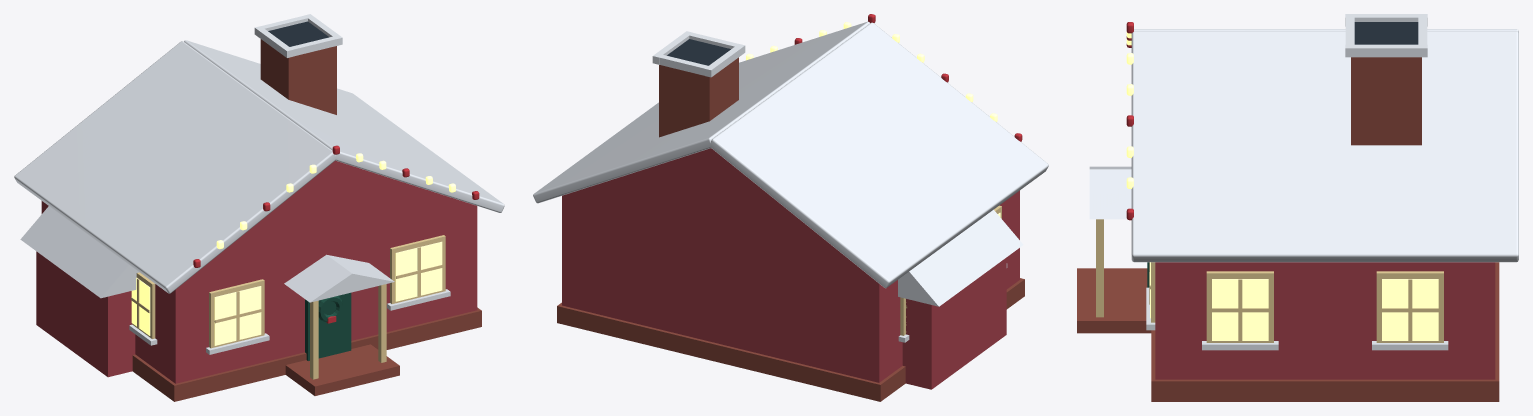
Rendered from peppermint.glb.
3 views of the same model, side by side, from view 1: azimuth 30°, elevation 25°; view 2: azimuth 150°, elevation 25°; view 3: azimuth 270°, elevation 25° (orthographic). The views are drawn at different scales.
Visible parts, largest first — view 1: Exterior; view 2: Exterior; view 3: Exterior.
Part boxes in pixels (x1=…): Exterior: x1=14, y1=14, x2=504, y2=401; Exterior: x1=533, y1=14, x2=1048, y2=401; Exterior: x1=1077, y1=14, x2=1518, y2=401.
Size of what is drawn, in the model's own units: 9.29 by 6.14 by 7.8.
